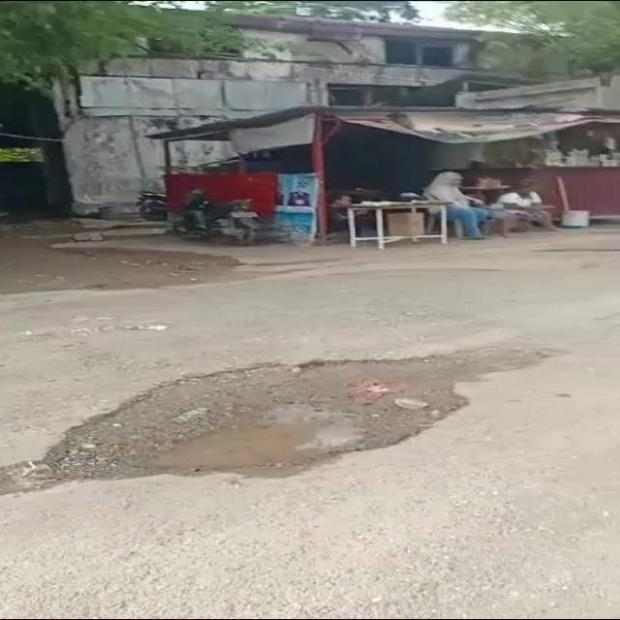lubang: (0, 345, 545, 493)
